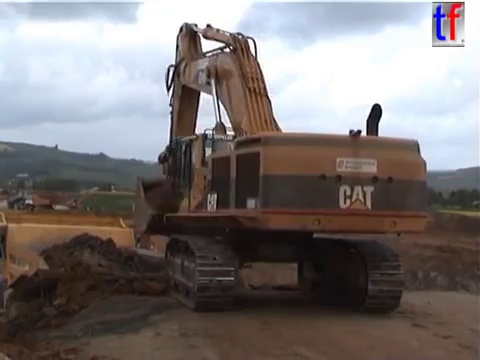excavator: (130, 19, 434, 316)
truck: (1, 210, 218, 359), (145, 223, 238, 298), (24, 192, 54, 213)
